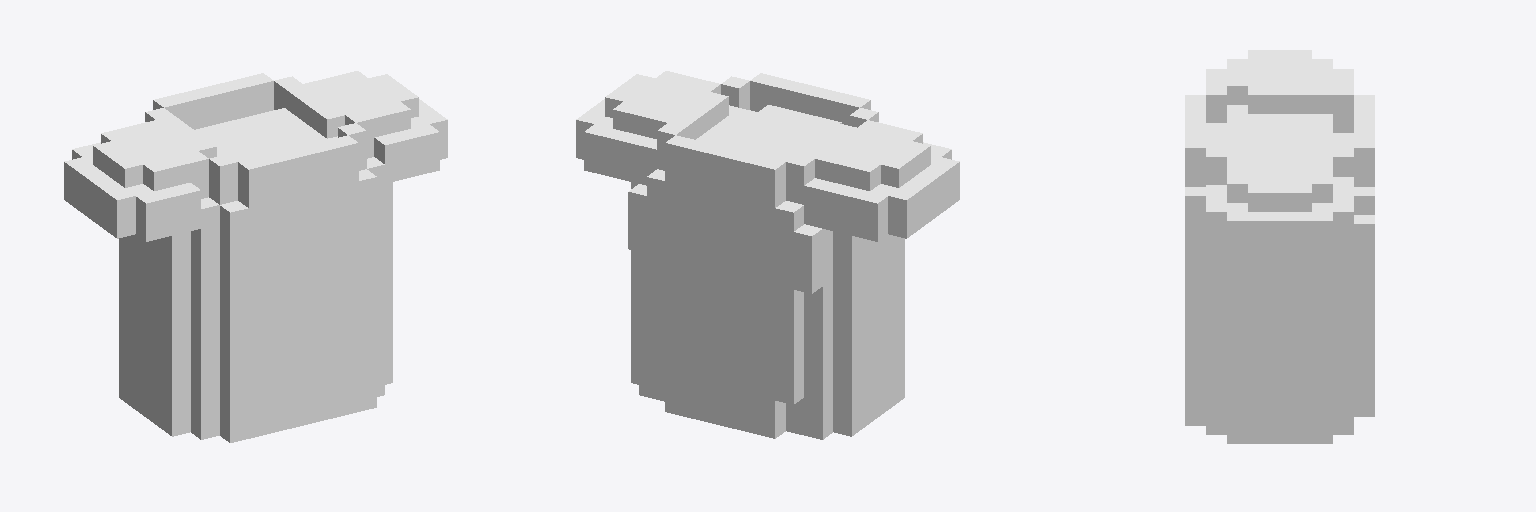
Rendered from Iron_Chestplate.obj.
The picture shows the model from 3 angles: view 1: azimuth 30°, elevation 25°; view 2: azimuth 150°, elevation 25°; view 3: azimuth 270°, elevation 25°; orthographic projection.
Parts seen in each view (by area): view 1: Human_Standart; view 2: Human_Standart; view 3: Human_Standart.
Boxes of the visible parts, x1,y1,x2,y2 form: Human_Standart: [64, 71, 447, 442]; Human_Standart: [576, 71, 959, 439]; Human_Standart: [1185, 50, 1374, 443].
Size of the model in its own units: 1.8 by 1.4 by 0.9.